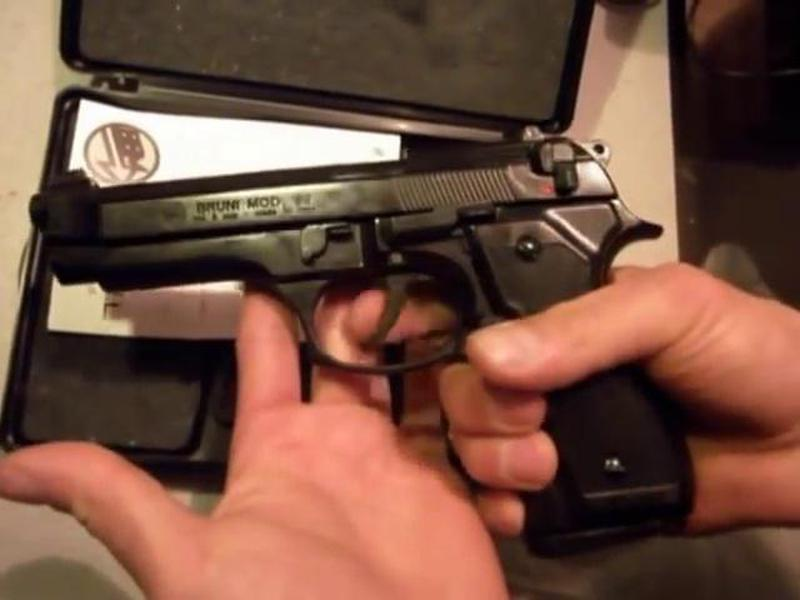Pistola: (37, 78, 749, 549)
